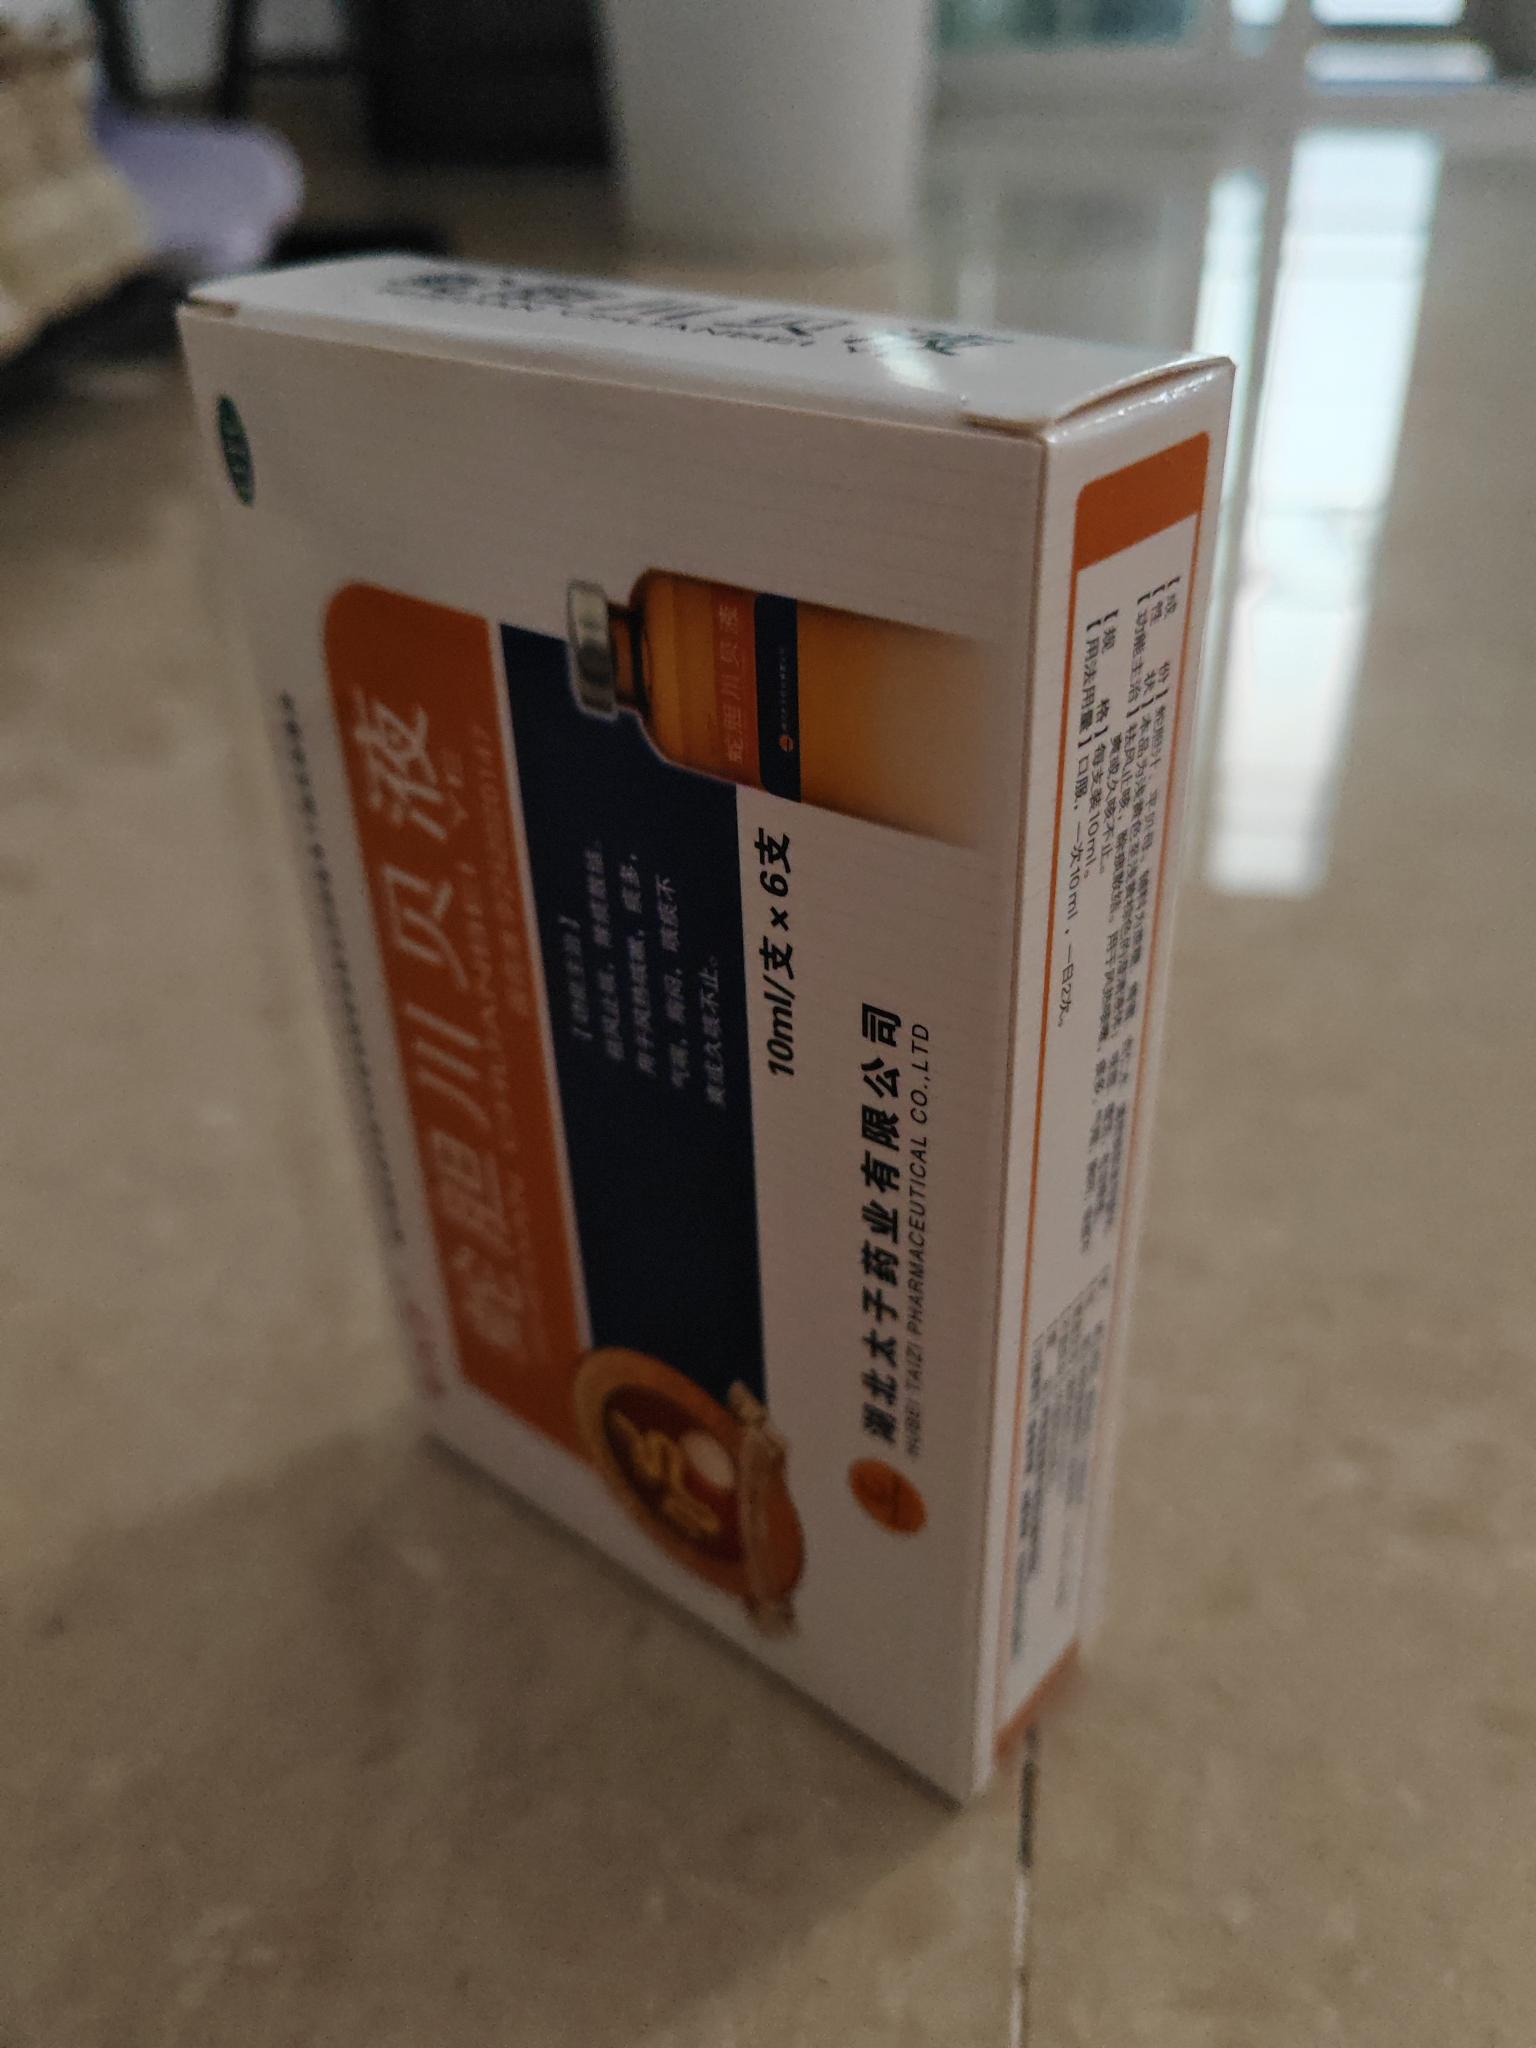Medicine5: (155, 218, 1257, 1830)
